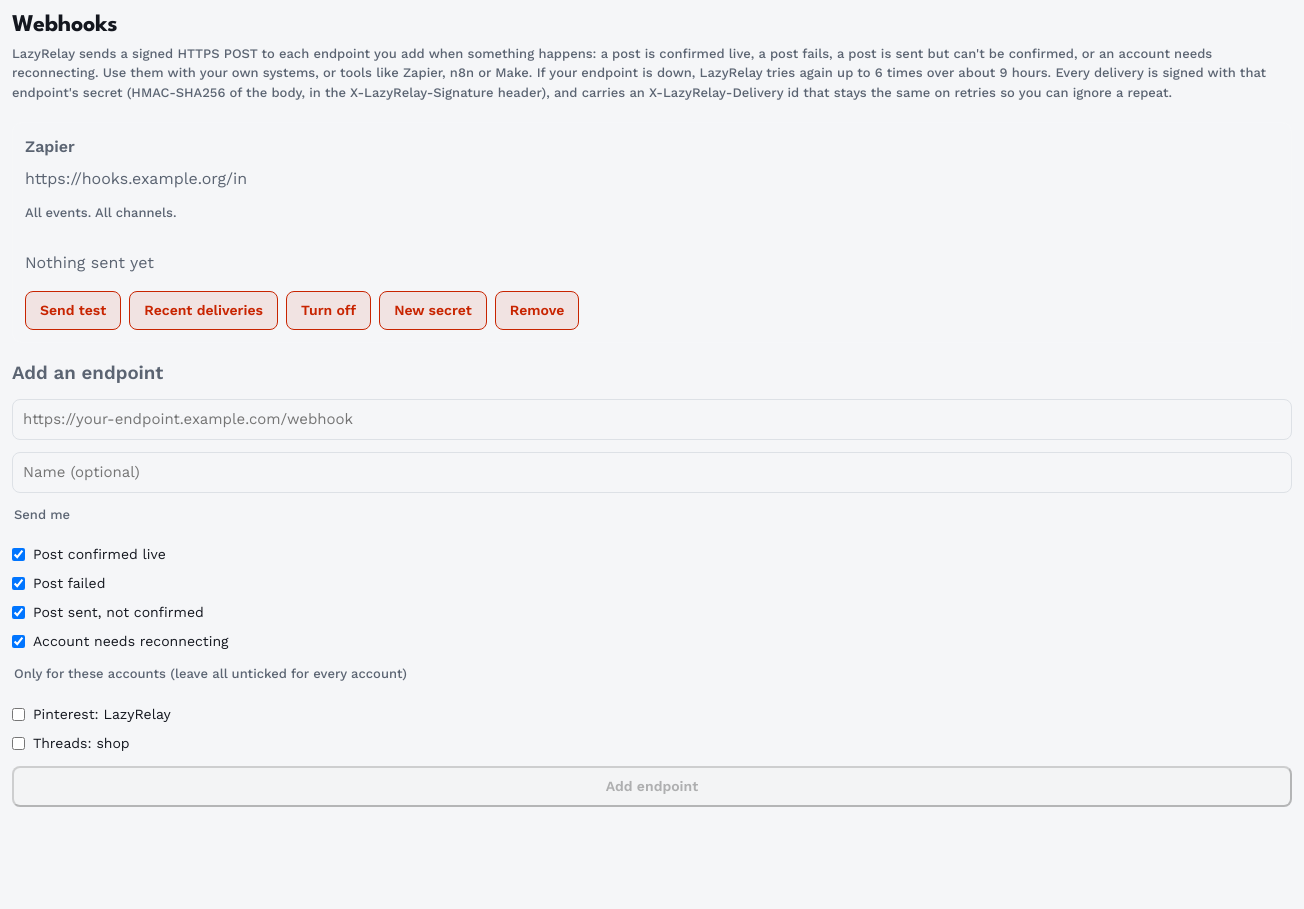
Test: WebhooksSection › a new secret is shown once
Click the button "New secret" at (433, 310), box [379,291,487,330]
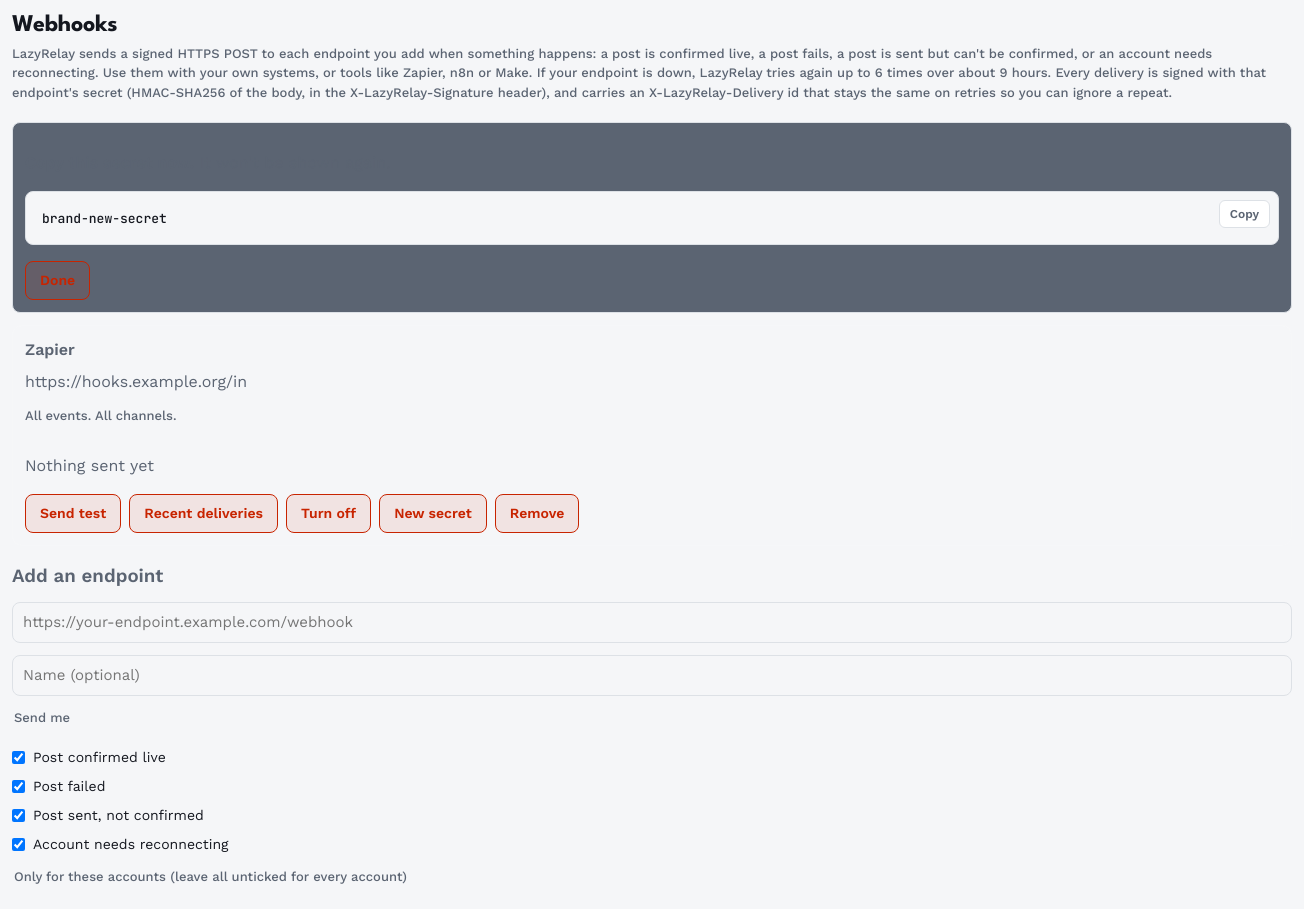
expect the text "brand-new-secret" is shown: met, box [42,210,167,227]
